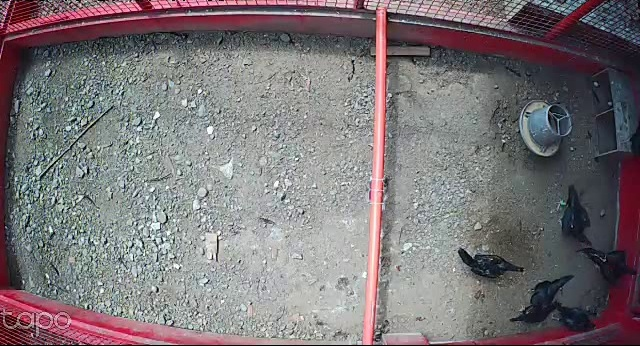Chicken: (554, 183, 594, 247), (458, 247, 526, 280), (528, 273, 577, 307), (550, 301, 601, 332), (509, 301, 562, 327)
Leg_Band_Green: (559, 199, 566, 210)
Rooster: (572, 240, 640, 285)
